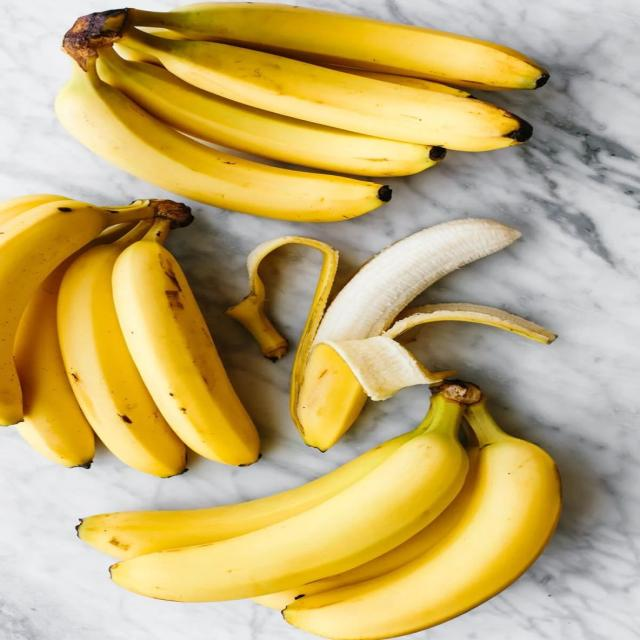unpeal banana: (111, 383, 479, 601), (227, 220, 555, 449), (284, 402, 560, 639), (56, 57, 391, 222), (77, 407, 433, 559), (122, 20, 532, 151), (291, 219, 519, 450), (98, 47, 445, 176), (254, 447, 479, 610), (129, 2, 548, 89), (113, 220, 259, 465), (0, 200, 154, 424), (58, 224, 186, 477), (15, 257, 94, 467), (15, 262, 94, 467), (329, 66, 474, 99), (323, 65, 471, 97), (0, 195, 68, 224)
